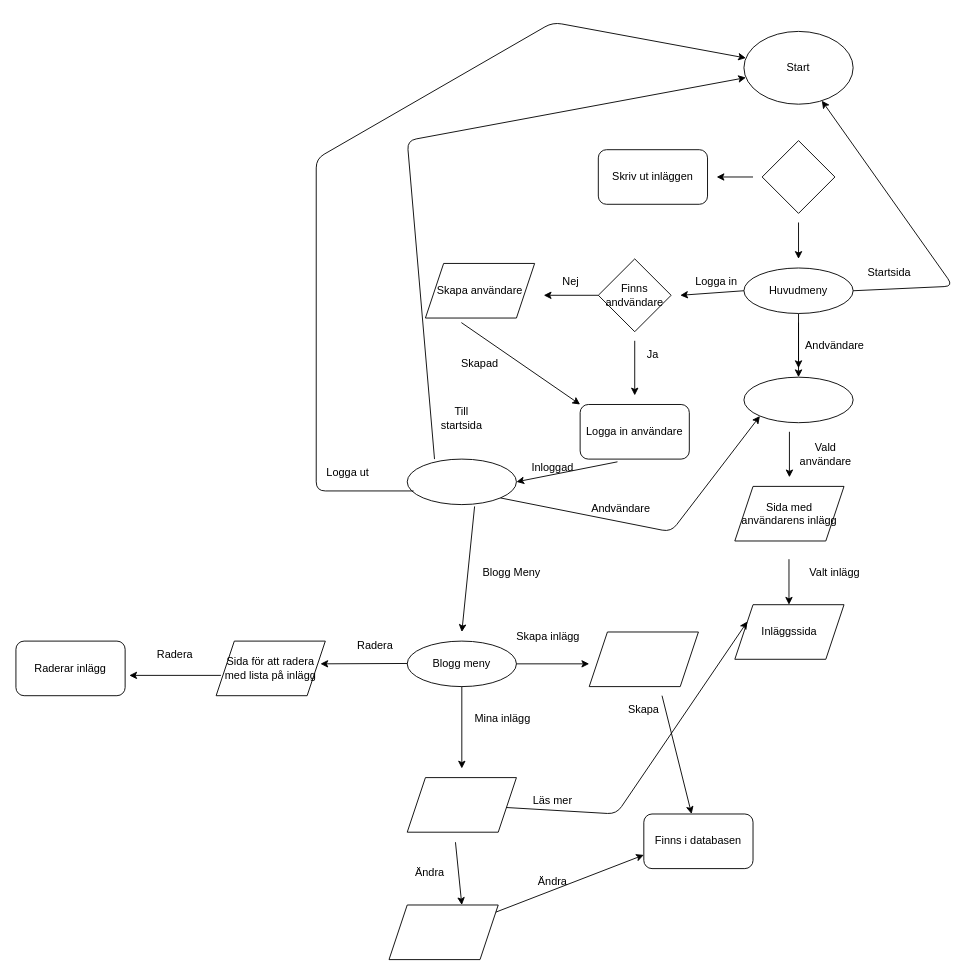
Image size: 976x976. Some labels were removed from this diagram. The shapes that lost their labels are listed below. From the top down, each one's centre as x and y in pixels, then its label:
the point at 798,176: Finns det inlägg
the point at 798,399: Andvändar;lista
the point at 461,481: Inloggad meny
the point at 643,659: Sida skapa
the point at 461,804: Sida för egna inlägg
the point at 443,932: Sida ändra inlägg
